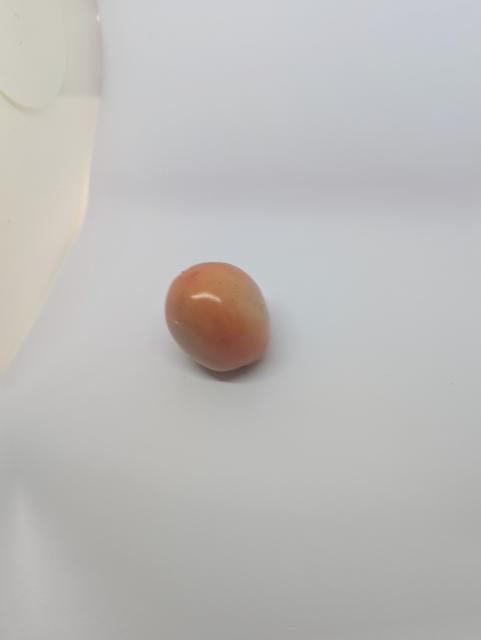turning: (164, 254, 284, 375)
